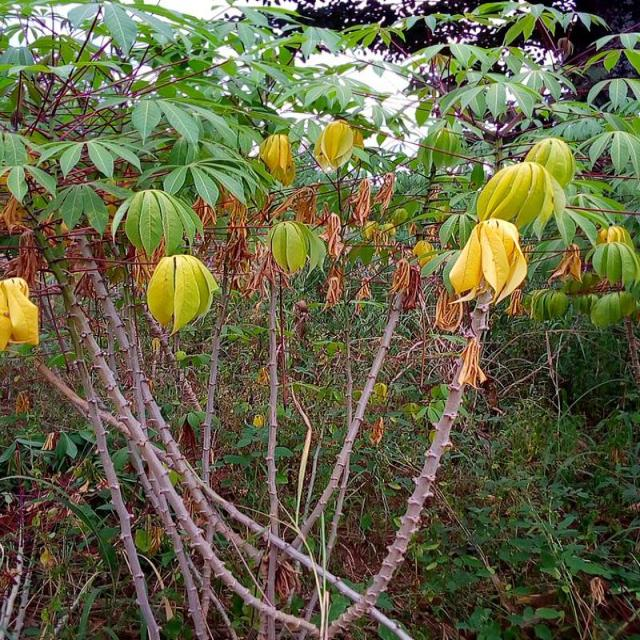cassava leaf: (448, 217, 527, 306), (146, 252, 220, 335), (116, 187, 202, 258), (266, 218, 326, 276), (0, 275, 39, 351)
